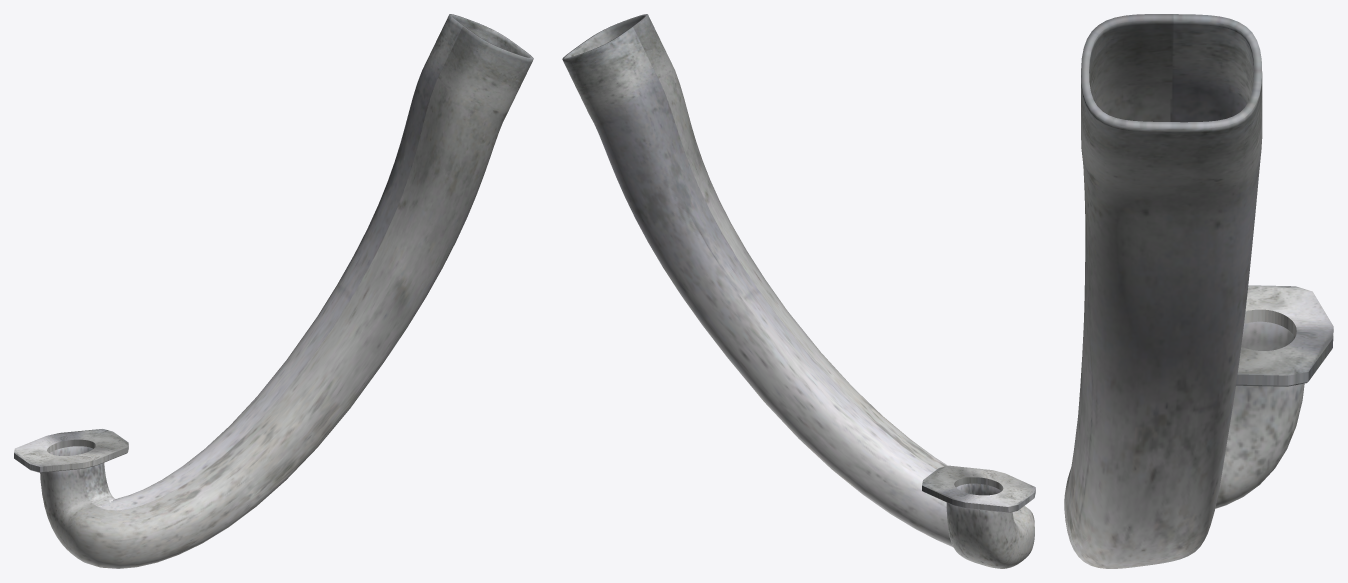
Rendered from turboBig_exhaust_inlet_tube.fbx.
The picture shows the model from 3 angles, left to right: view 1: azimuth 30°, elevation 25°; view 2: azimuth 150°, elevation 25°; view 3: azimuth 270°, elevation 25°; orthographic projection. The views are drawn at different scales.
Parts seen in each view (by area): view 1: turboBig_exhaust_inlet_tube; view 2: turboBig_exhaust_inlet_tube; view 3: turboBig_exhaust_inlet_tube.
Boxes of the visible parts, box(x1,y1,x2,y2) form: turboBig_exhaust_inlet_tube: box(14, 14, 533, 568); turboBig_exhaust_inlet_tube: box(562, 14, 1035, 568); turboBig_exhaust_inlet_tube: box(1064, 14, 1333, 568).
Size of the model in its own units: 37.89 by 34 by 10.05.
1 material, 1 textured.
